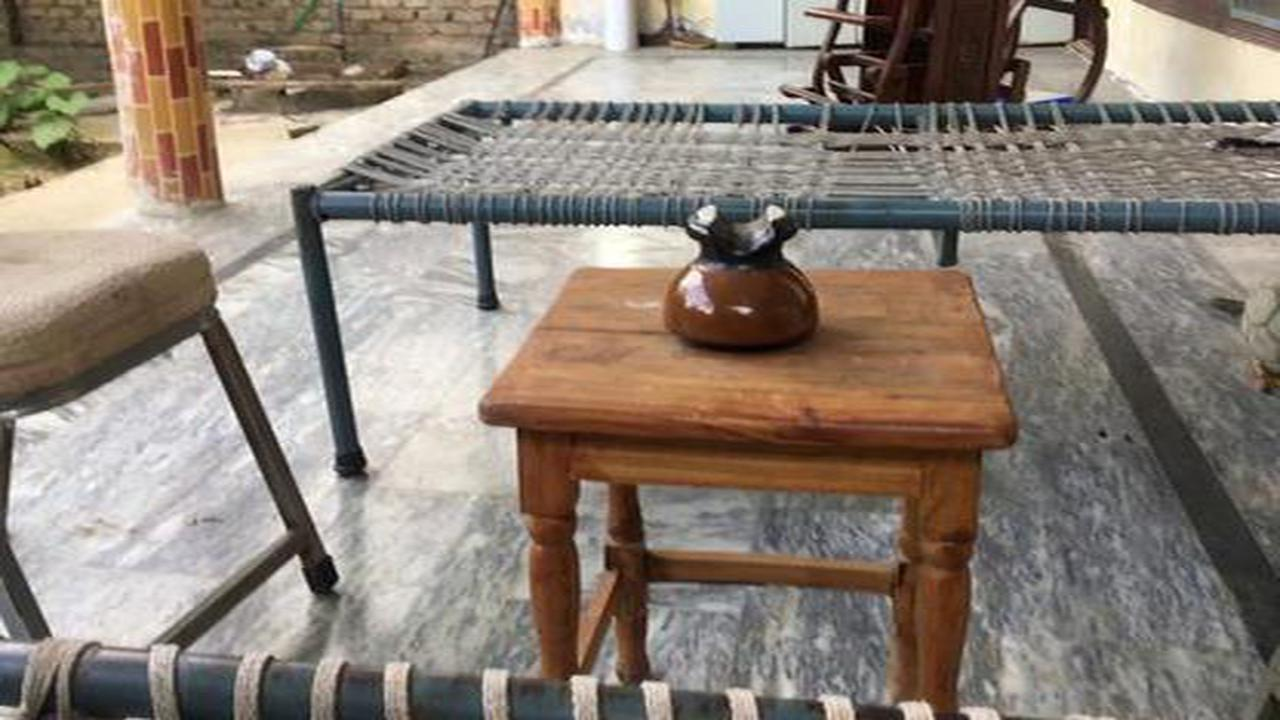insulator_pin: (647, 189, 844, 355)
